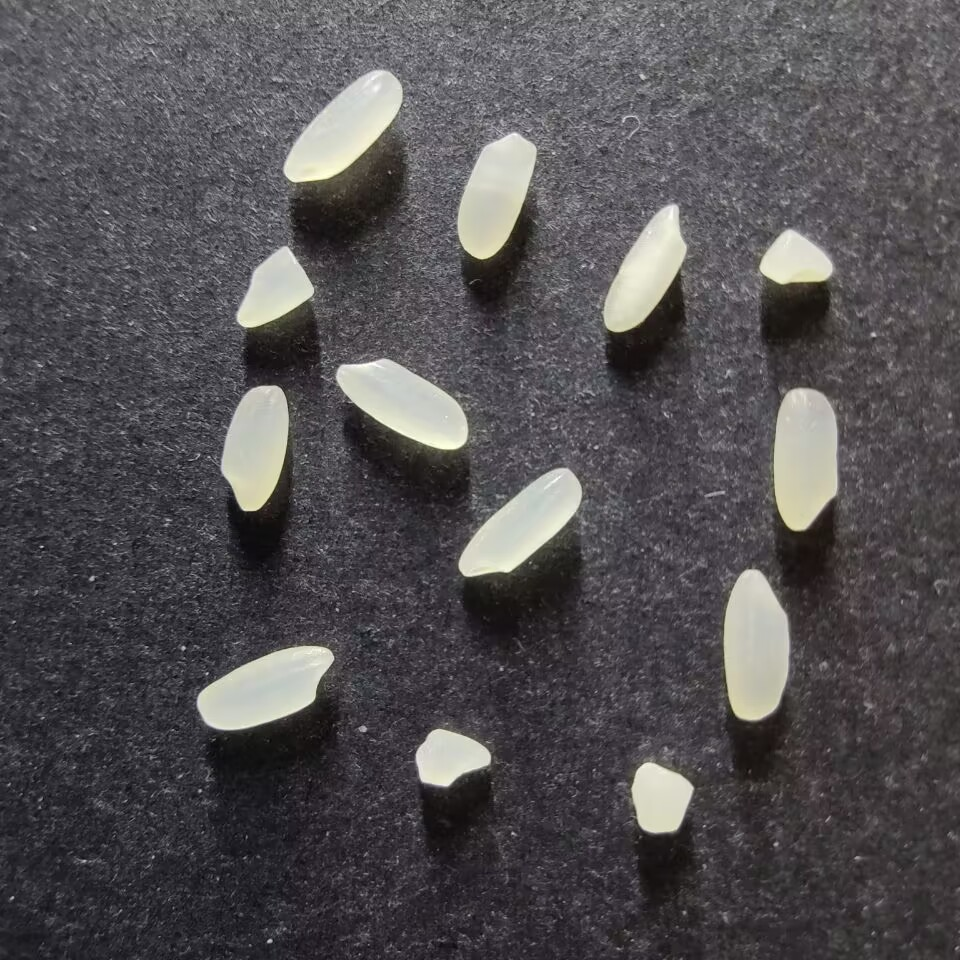broken: (235, 245, 314, 330), (629, 760, 694, 834), (414, 727, 491, 788), (759, 229, 832, 285)
rice: (457, 467, 582, 578), (282, 69, 403, 183), (335, 357, 467, 450), (196, 645, 334, 731), (601, 203, 687, 333), (456, 132, 537, 260), (722, 569, 789, 720), (772, 387, 838, 532), (219, 384, 288, 512)
